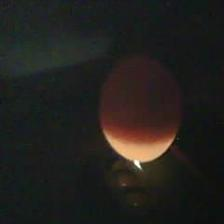fertile: (96, 51, 182, 163)
